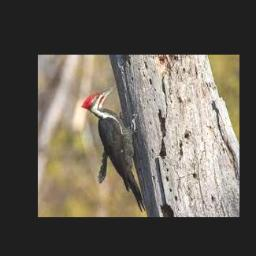Woodpecker: (81, 85, 146, 212)
